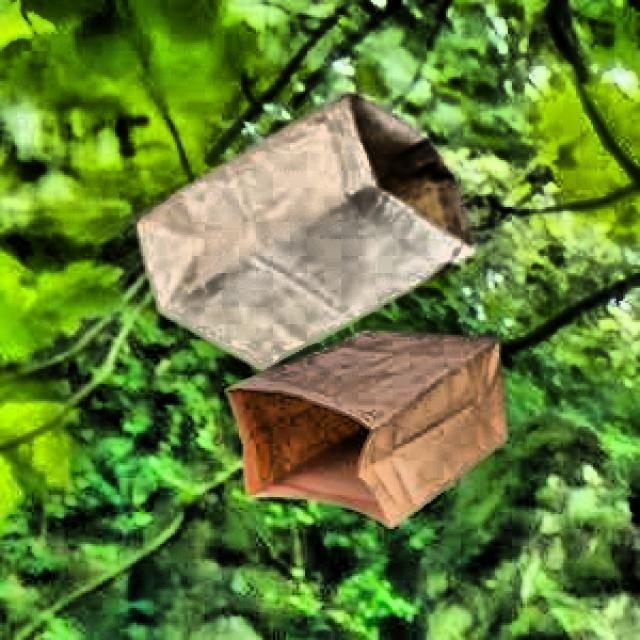Paper-bag: (111, 83, 468, 350), (216, 311, 519, 528)
